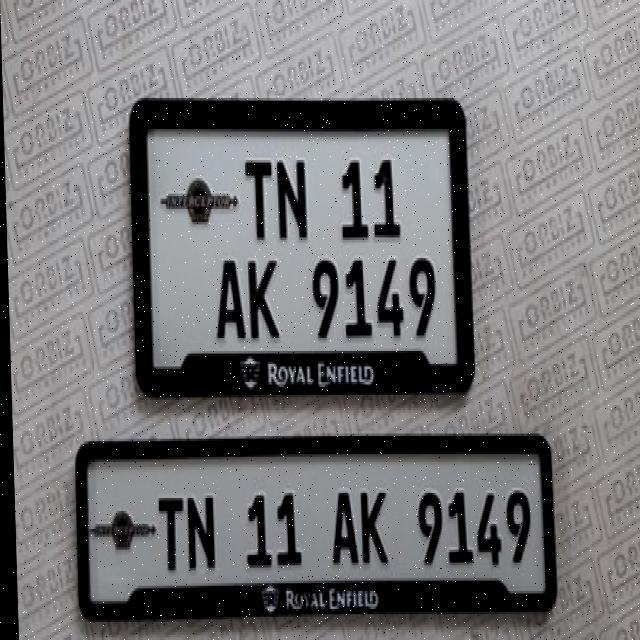plate: (123, 92, 477, 401), (68, 429, 559, 622)
